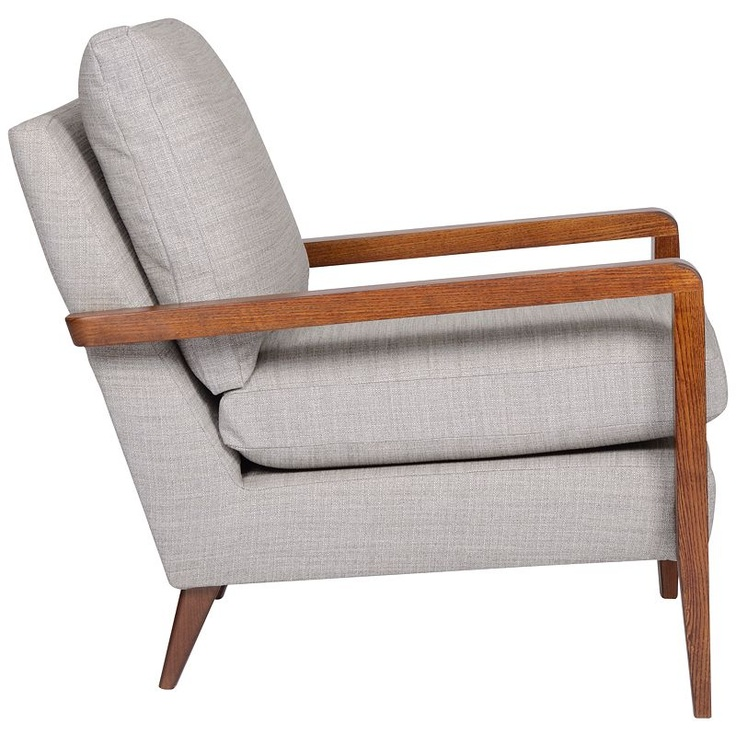chairs: (8, 21, 725, 719)
